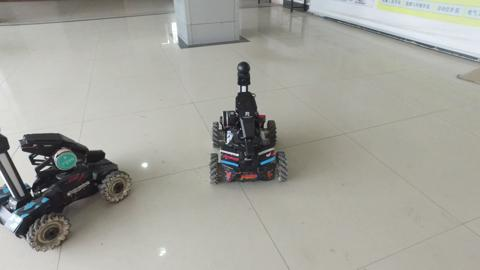chariot: (204, 56, 292, 193)
